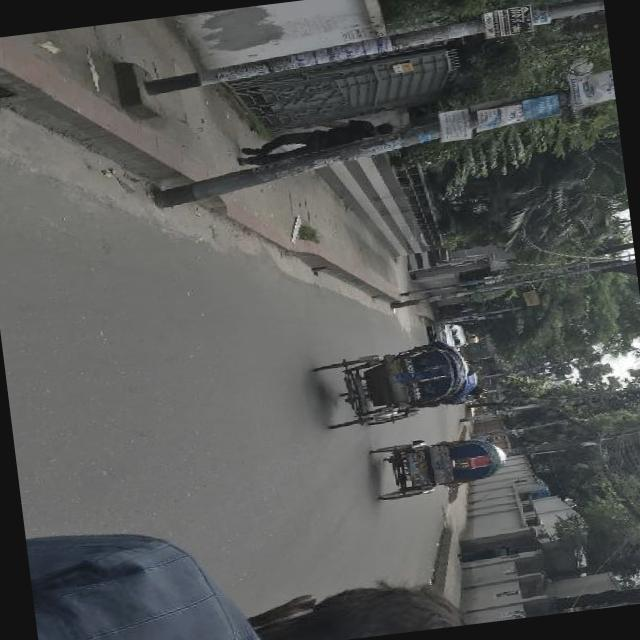car: (428, 320, 464, 350)
motorcycle: (311, 339, 472, 430), (369, 428, 512, 502), (361, 374, 481, 428), (464, 329, 478, 344), (456, 395, 470, 405), (479, 387, 490, 397)
